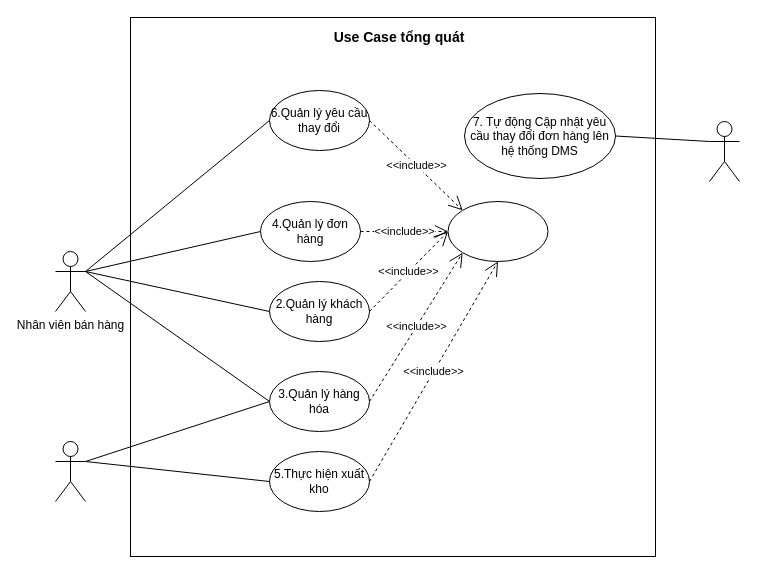
The diagram is 775 pixels wide and 574 high, and some of its shapes have lost their labels. The centre of each missing label's shape, as x and y in pixels:
"1.Đăng nhập" belongs at point (497, 231).
"<<system>> Zalo OA" belongs at point (724, 151).
"Thủ kho" belongs at point (70, 471).
